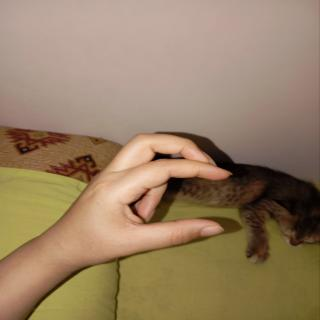DHELL: (47, 122, 262, 269)
